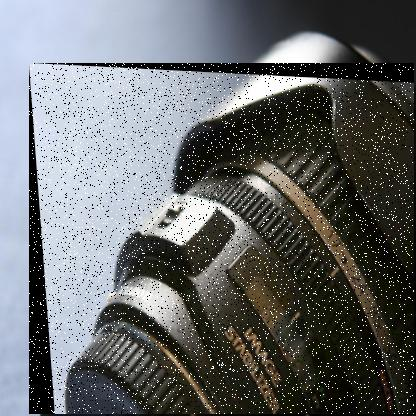Camera: (30, 64, 416, 416)
